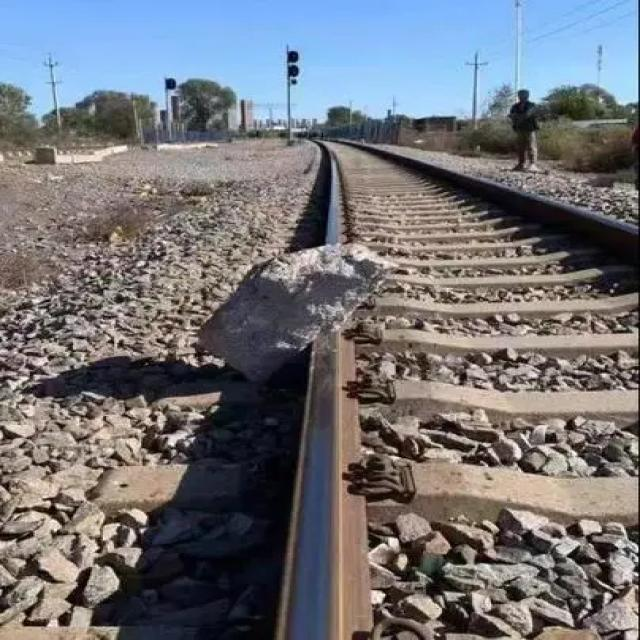Stone: (208, 245, 394, 383)
people: (506, 86, 552, 173)
